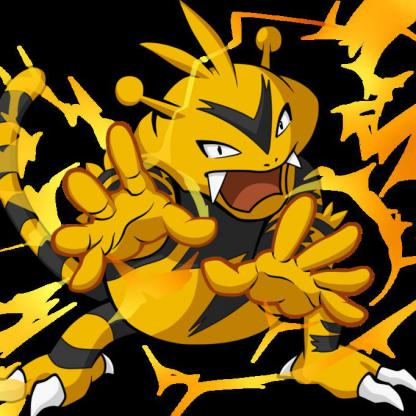Electabuzz: (1, 45, 402, 413)
